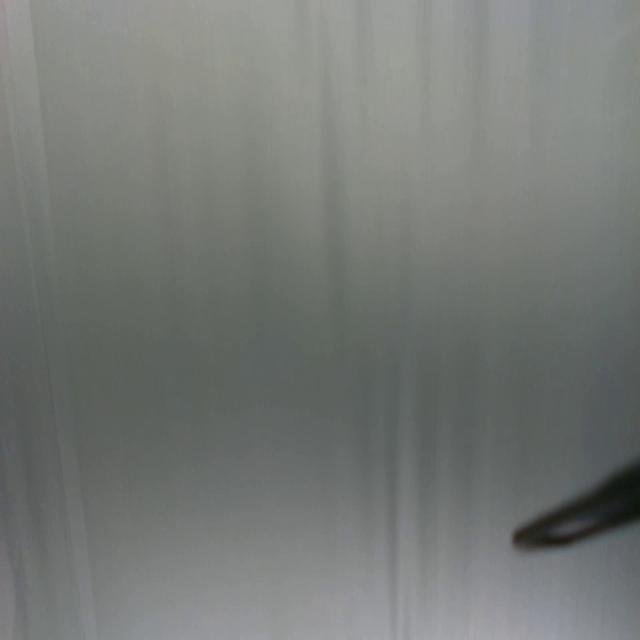crease: (1, 1, 96, 633)
